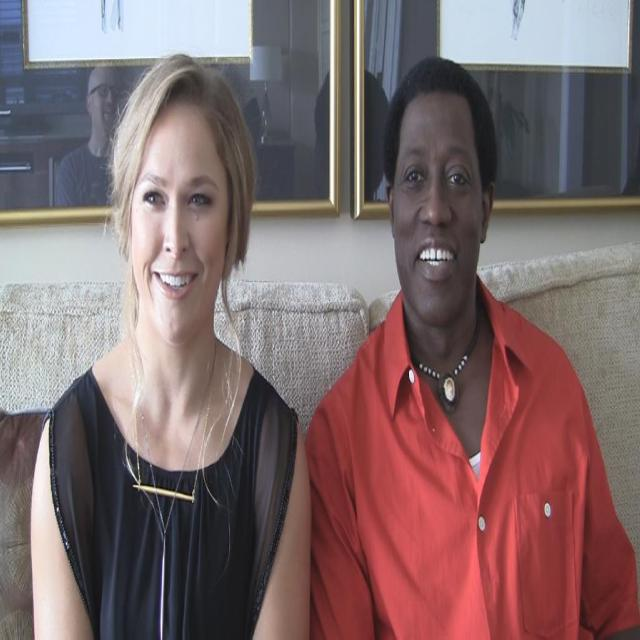Face: (127, 110, 234, 341), (401, 94, 484, 327)
